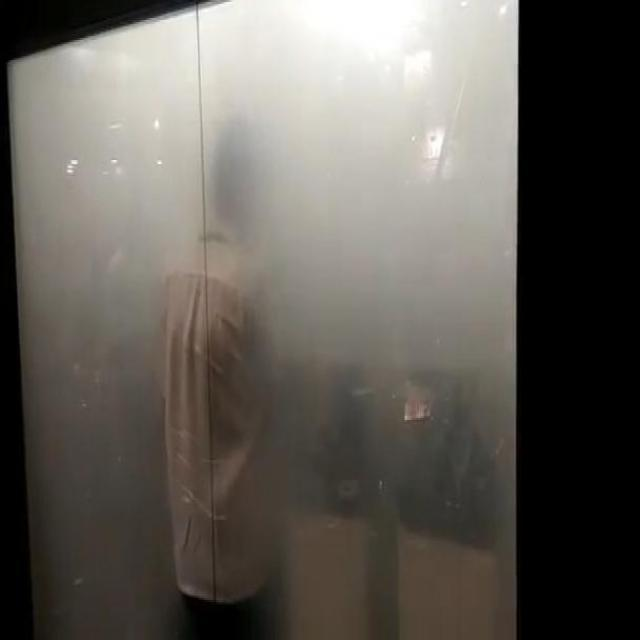Smoke: (16, 52, 512, 606)
